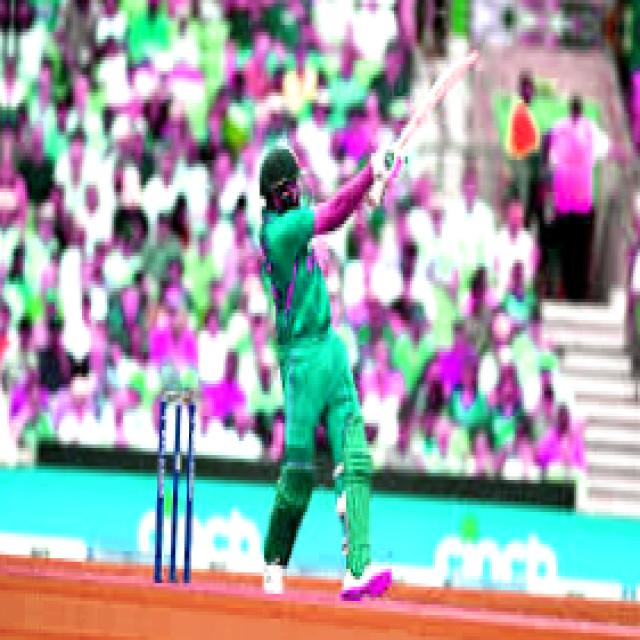toe: (462, 48, 481, 68)
